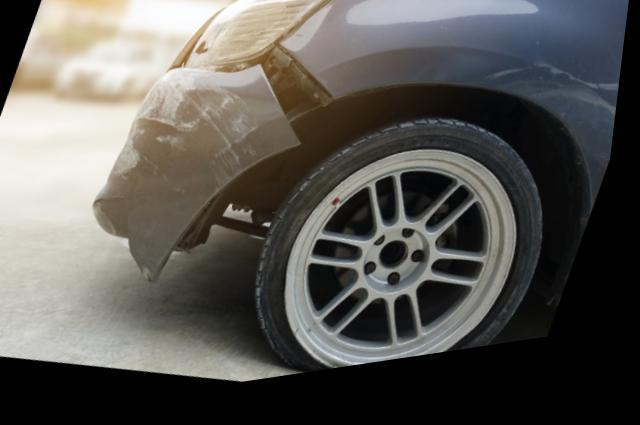dislocated part: (100, 54, 333, 286)
lamp broken: (186, 0, 338, 75)
scratch: (115, 74, 269, 201)
tire flat: (264, 131, 549, 383)
